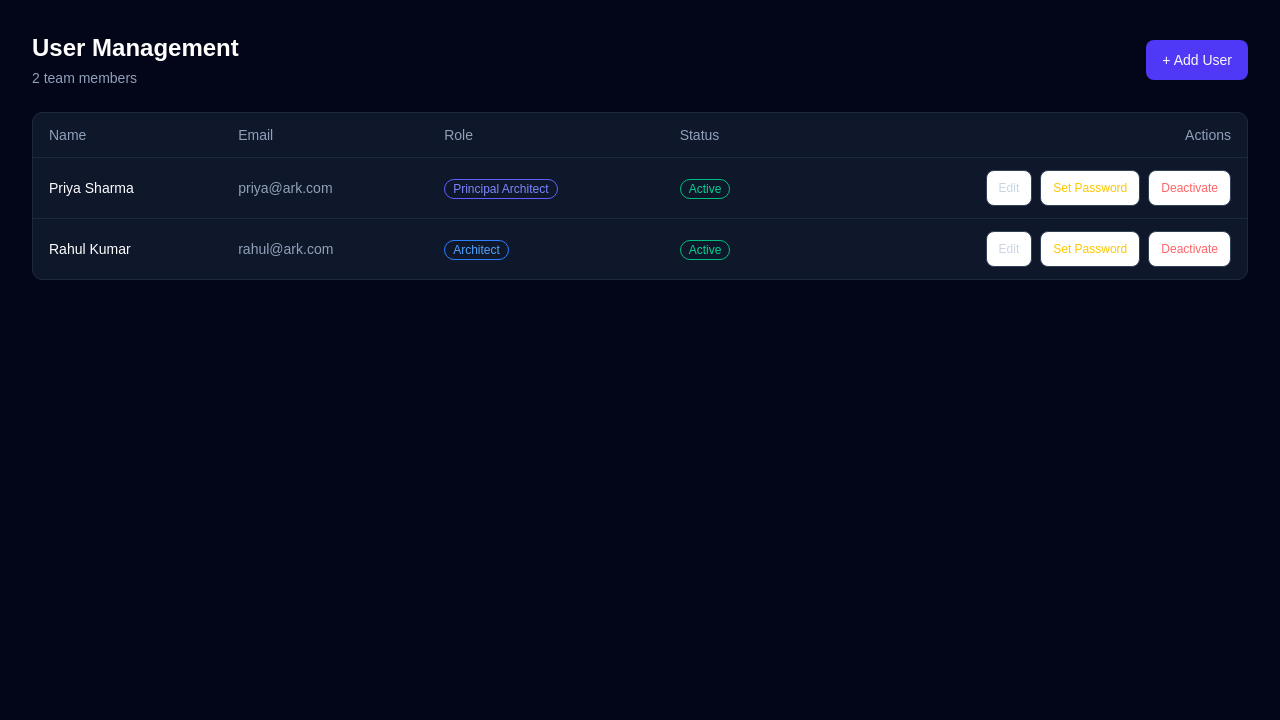
Test: opens create user dialog on Add User click
Click the button "+ Add User".
click(1197, 60)  # box [1146,40,1248,80]
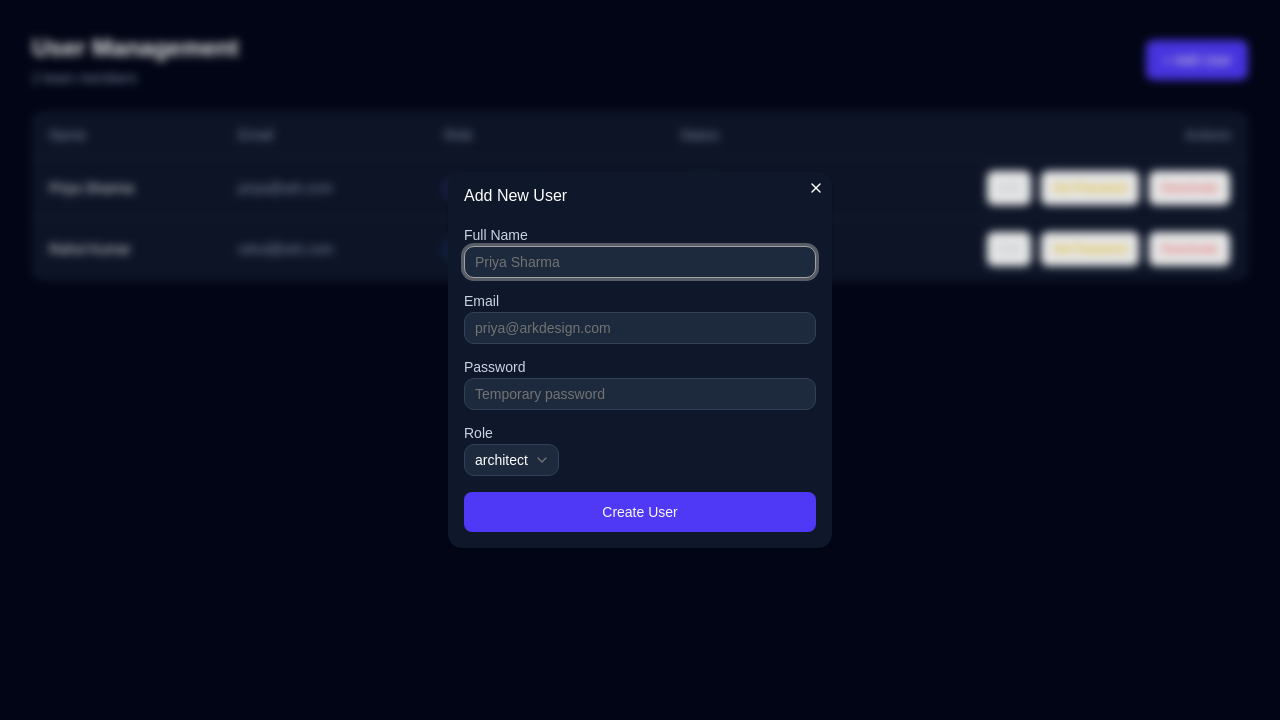
Check: the dialog is shown, box [448,172,832,548]
